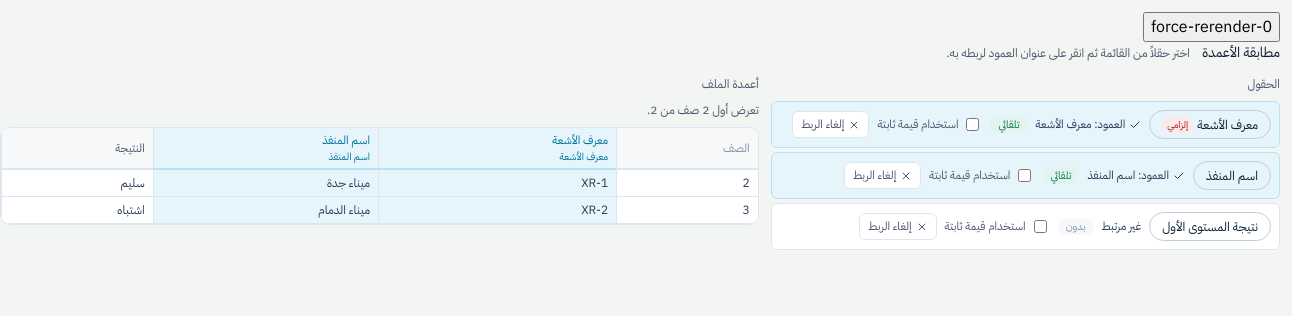
Test: MappingWorkbench › assigns the clicked column header to the armed field
The image size is (1292, 316).
Click the button "نتيجة المستوى الأول" at (1210, 226), box [1149, 212, 1271, 241]
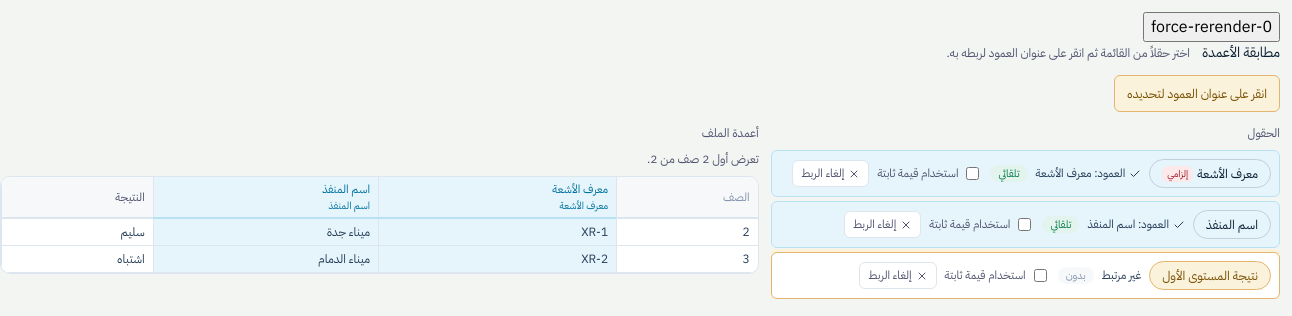
Now the text "انقر على عنوان العمود لتحديده" is shown, box [1114, 75, 1280, 112]
Click the button "النتيجة" at (130, 197), box [115, 188, 145, 206]
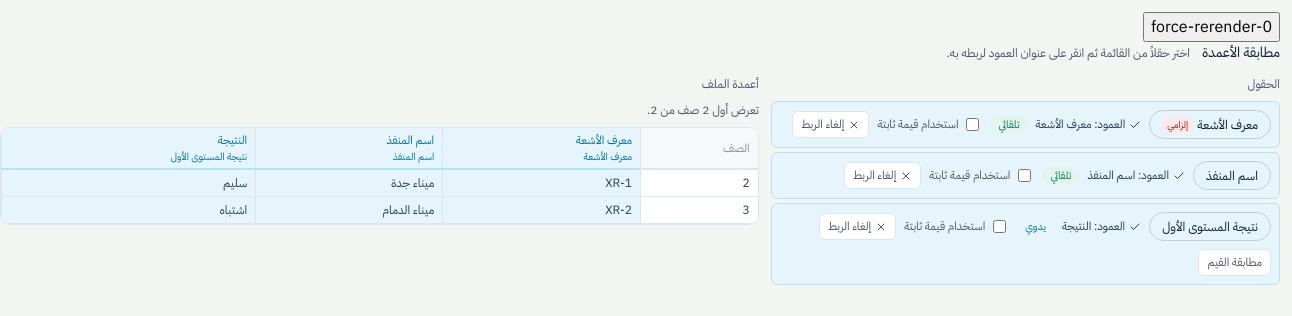
Now the text "انقر على عنوان العمود لتحديده" is gone
Now the text "يدوي" is shown, box [1017, 218, 1054, 235]
